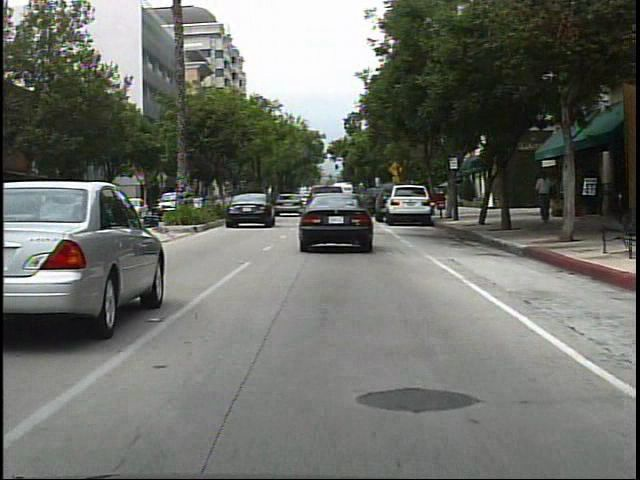person: (532, 171, 558, 228)
